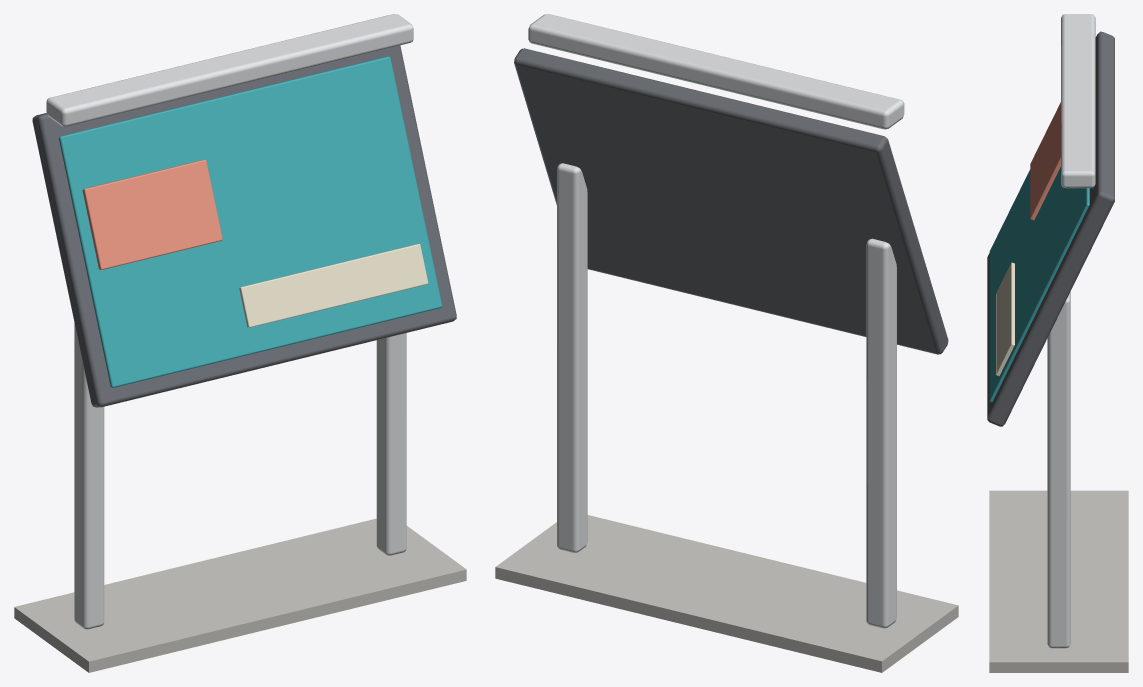
File: sign.glb
3 views of the same model, side by side, from view 1: azimuth 30°, elevation 25°; view 2: azimuth 150°, elevation 25°; view 3: azimuth 270°, elevation 25° (orthographic). The views are drawn at different scales.
Parts seen in each view (by area): view 1: tank-interpretive-sign; view 2: tank-interpretive-sign; view 3: tank-interpretive-sign.
Part boxes in pixels (x1=…): tank-interpretive-sign: x1=14, y1=14, x2=466, y2=672; tank-interpretive-sign: x1=495, y1=14, x2=958, y2=672; tank-interpretive-sign: x1=987, y1=14, x2=1128, y2=672.
Bounding box in the file's own units: 1.05 × 1.41 × 0.365.
